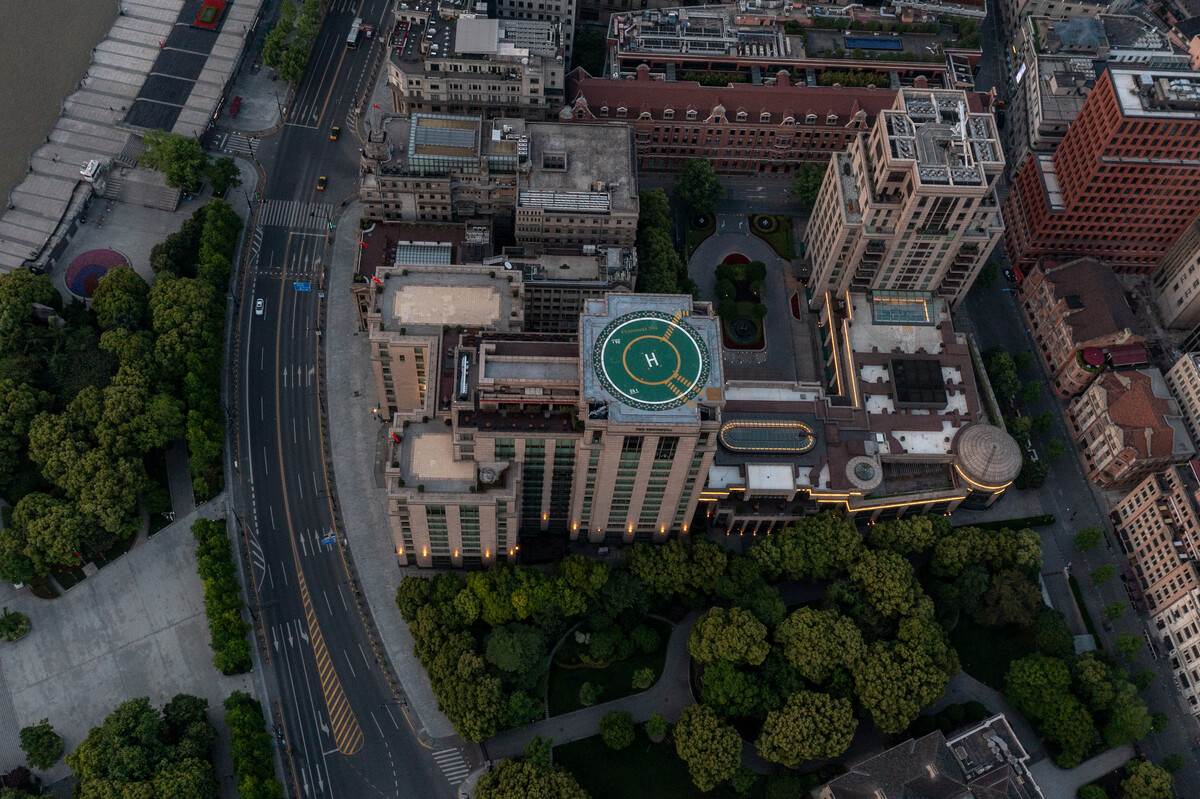Apron: (623, 335, 681, 384)
